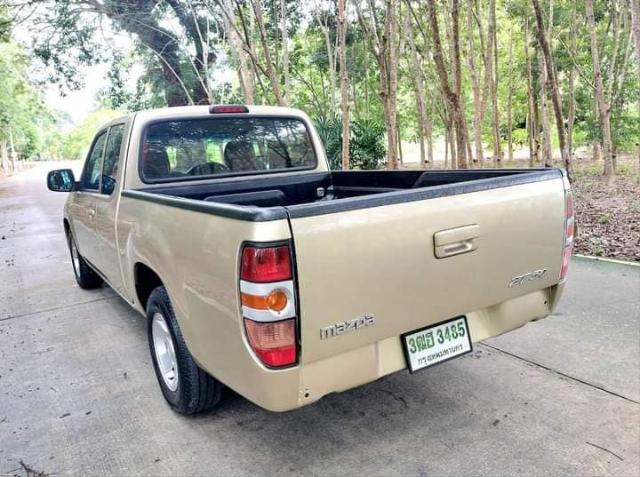pickup-truck: (44, 94, 587, 428)
